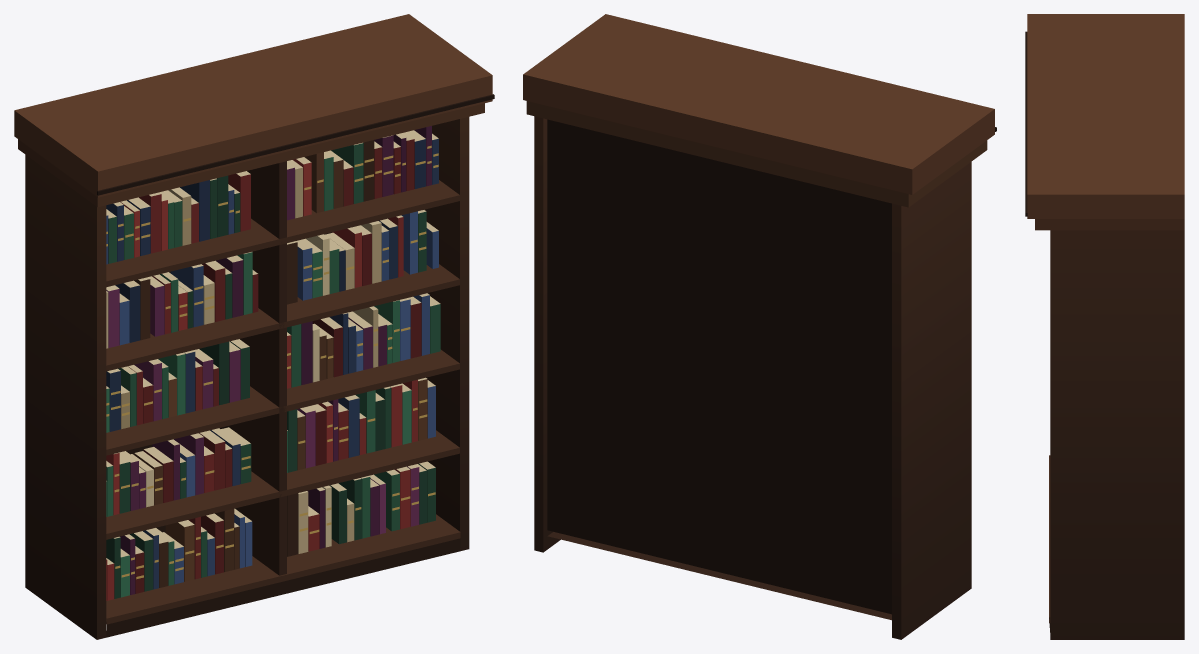
Rendered from SM_ArchiveBookcase_Tall_2m_Filled.fbx.
The picture shows the model from 3 angles, left to right: view 1: azimuth 30°, elevation 25°; view 2: azimuth 150°, elevation 25°; view 3: azimuth 270°, elevation 25°; orthographic projection. The views are drawn at different scales.
Parts seen in each view (by area): view 1: SM_ArchiveBookcase_Tall_2m_Filled.001; view 2: SM_ArchiveBookcase_Tall_2m_Filled.001; view 3: SM_ArchiveBookcase_Tall_2m_Filled.001.
Part boxes in pixels (x1,y1,x2,y2): SM_ArchiveBookcase_Tall_2m_Filled.001: (14,14,494,639); SM_ArchiveBookcase_Tall_2m_Filled.001: (523,14,996,639); SM_ArchiveBookcase_Tall_2m_Filled.001: (1025,14,1184,639).
Size of the model in its own units: 2.13 by 2.46 by 0.7885.
